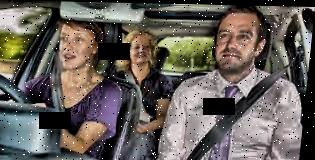seatbelt: (184, 45, 305, 160), (47, 48, 81, 129), (121, 64, 160, 129)
